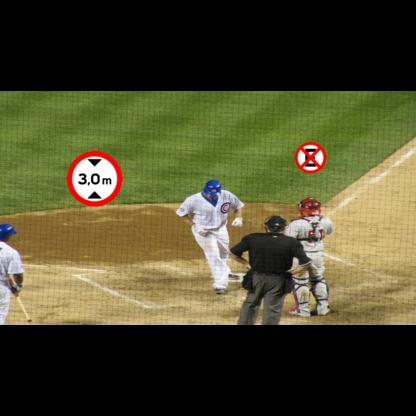R-15: (67, 151, 122, 206)
R-6c: (295, 142, 326, 174)
